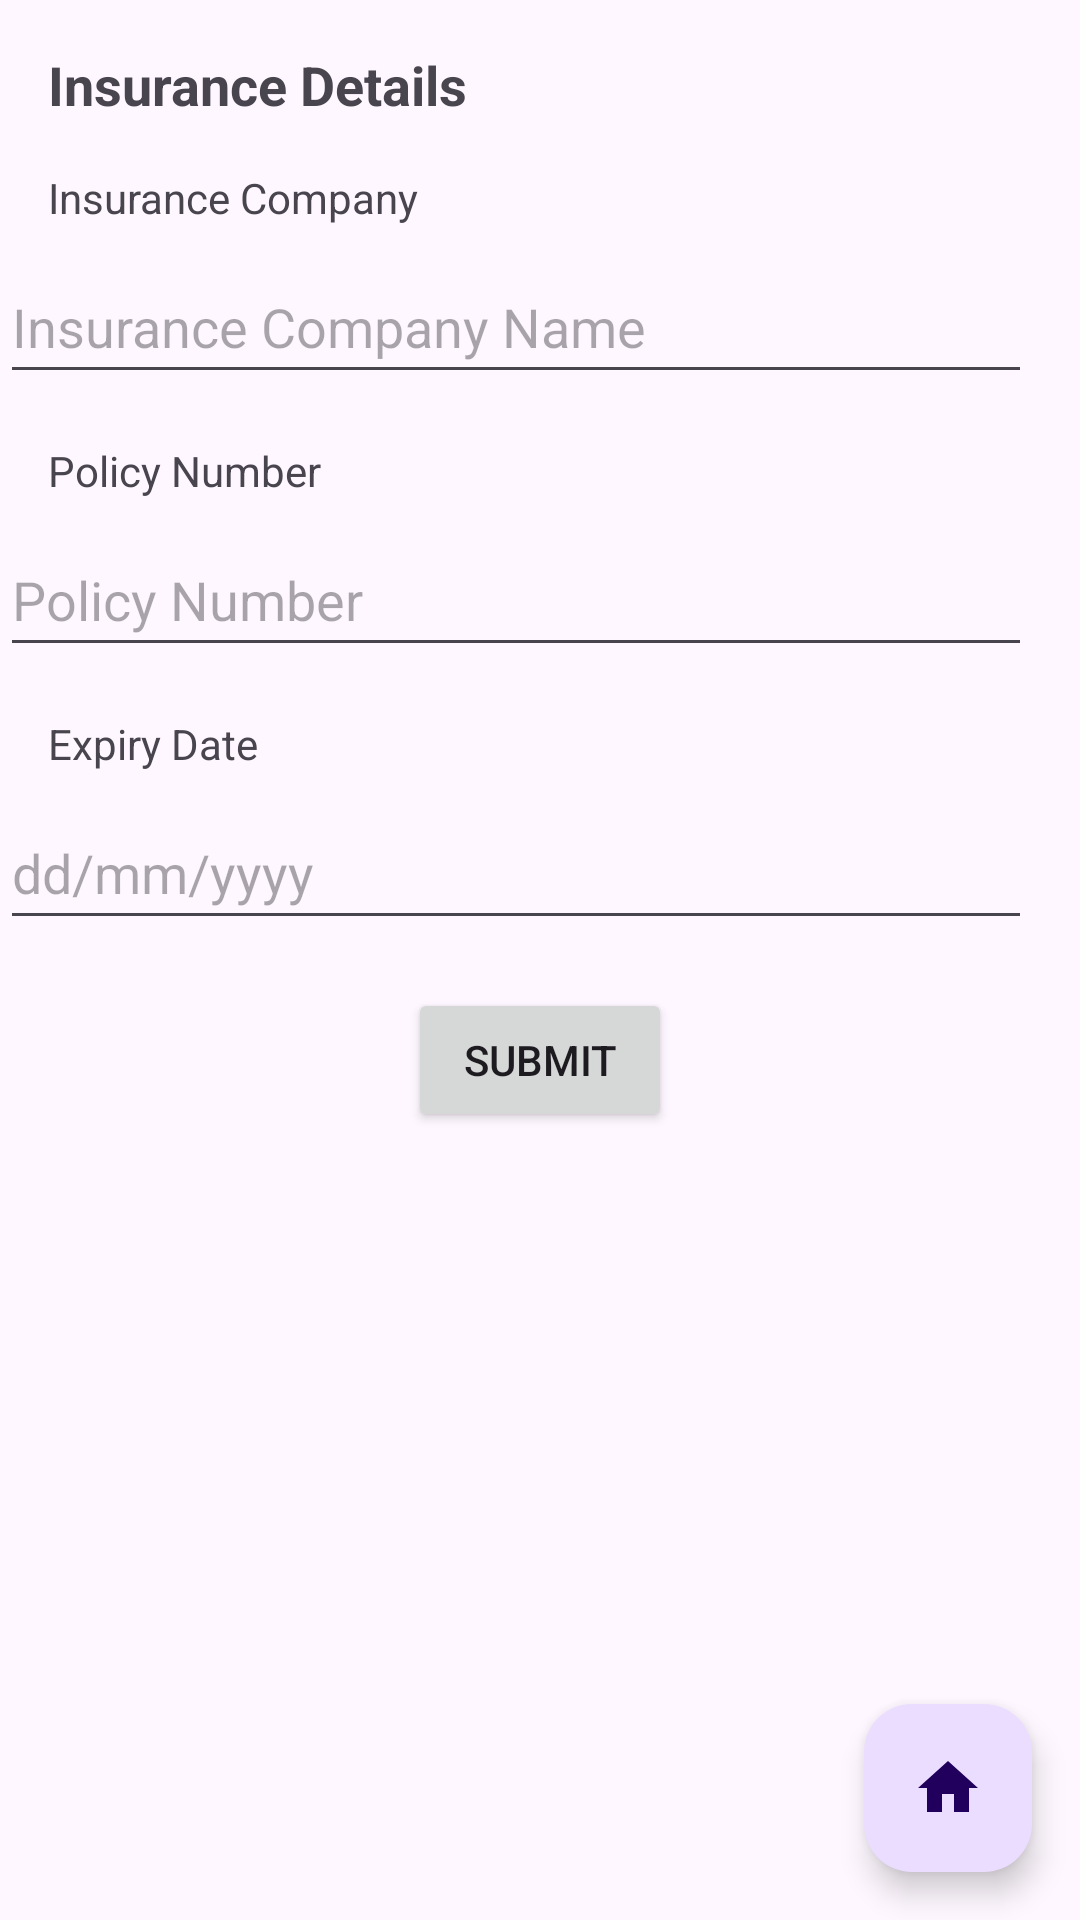

Where icons sit on this 1080px×1920px app screen, as bbox(x1, y1, x2, y2):
Home button: bbox(864, 1704, 1032, 1872)
